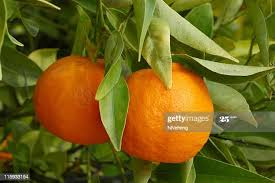orange: (122, 65, 215, 162), (34, 53, 124, 148)
